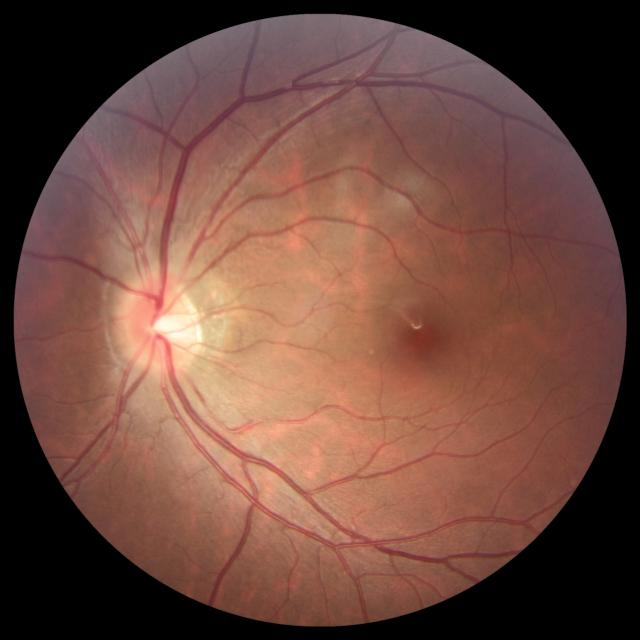OC: (149, 306, 186, 342)
OD: (116, 275, 200, 372)
